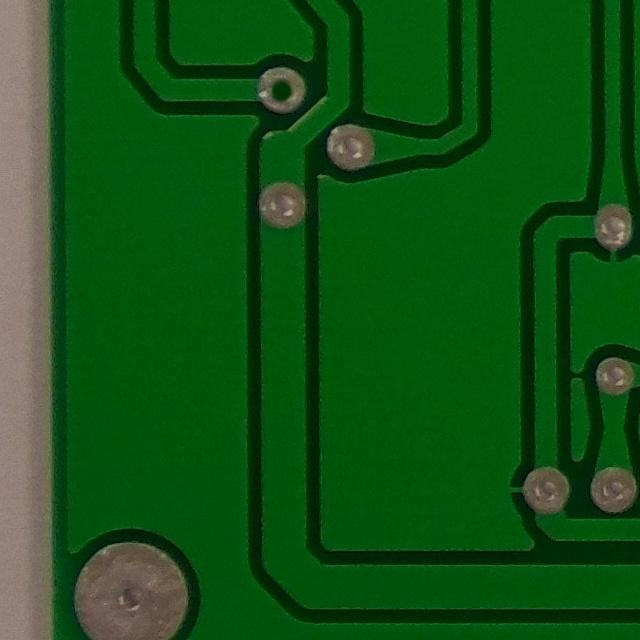missing_hole: (238, 54, 318, 119)
